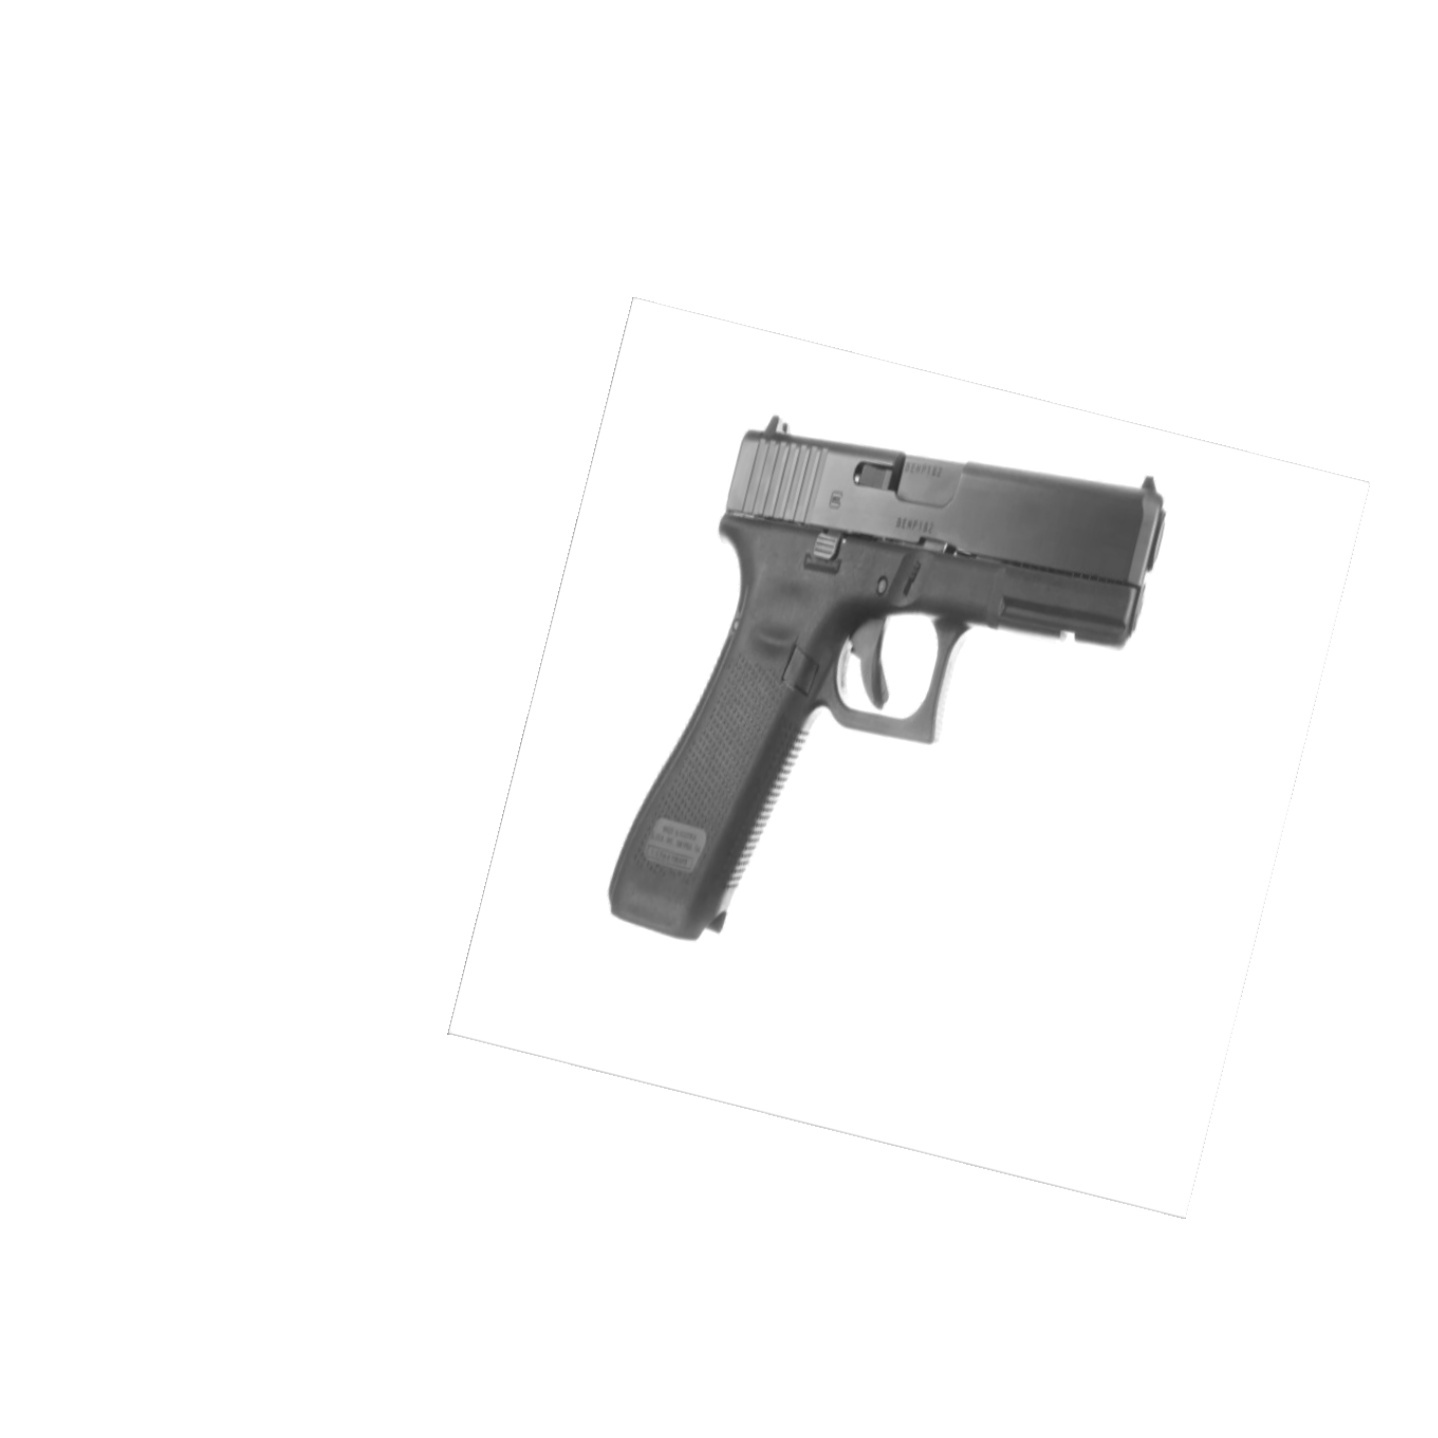gun: (602, 416, 1167, 940)
